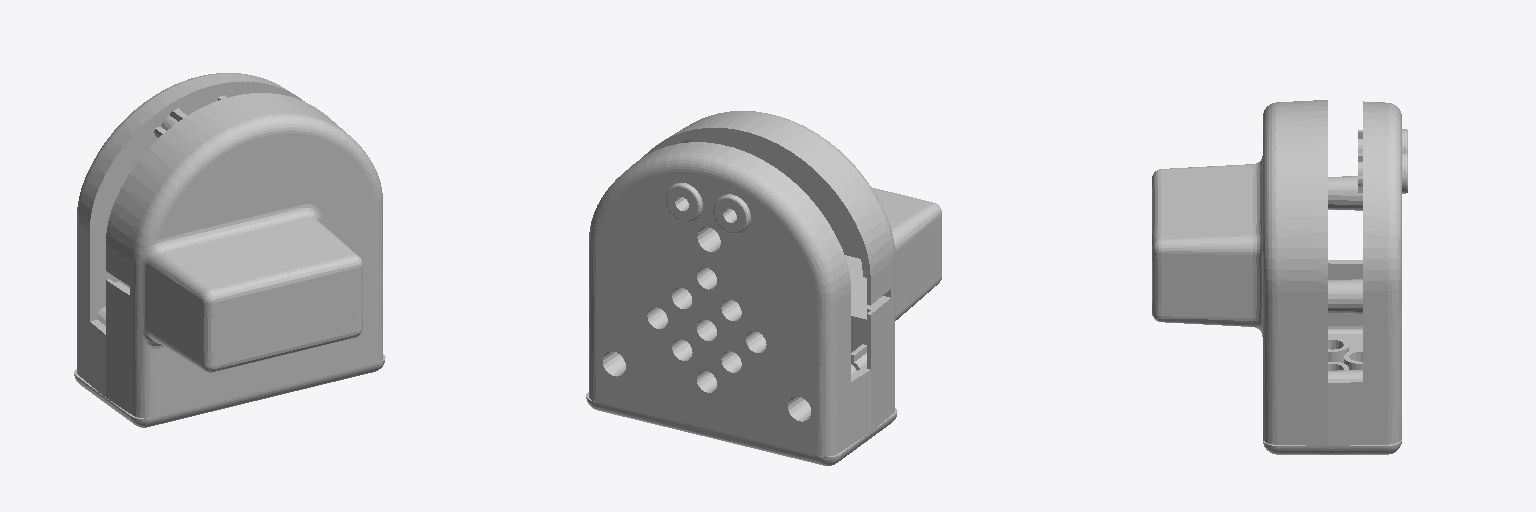
The model's file is gripper_base.obj.
The picture shows the model from 3 angles: view 1: azimuth 30°, elevation 25°; view 2: azimuth 150°, elevation 25°; view 3: azimuth 270°, elevation 25°; orthographic projection.
Parts seen in each view (by area): view 1: gripper_base; view 2: gripper_base; view 3: gripper_base.
Boxes of the visible parts, box(x1,y1,x2,y2) form: gripper_base: box(74, 73, 385, 427); gripper_base: box(586, 111, 941, 465); gripper_base: box(1152, 100, 1407, 454).
Bounding box in the file's own units: 0.058 × 0.0622 × 0.0509.